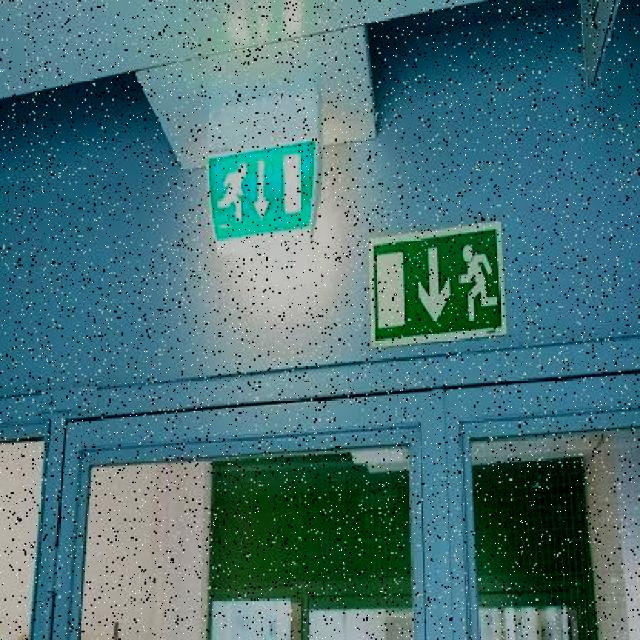emergency_exit: (368, 220, 507, 349), (206, 138, 318, 242)
